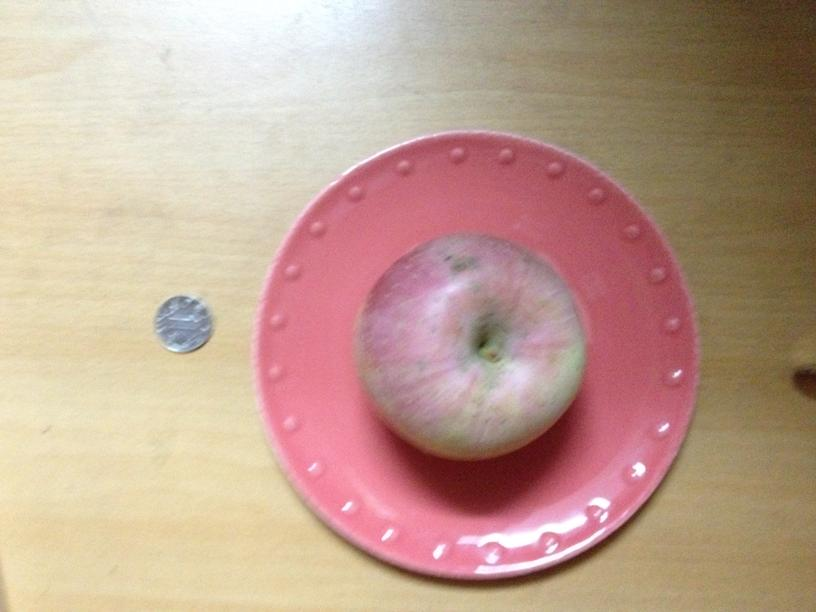apple: (359, 228, 587, 460)
coin: (153, 292, 212, 354)
